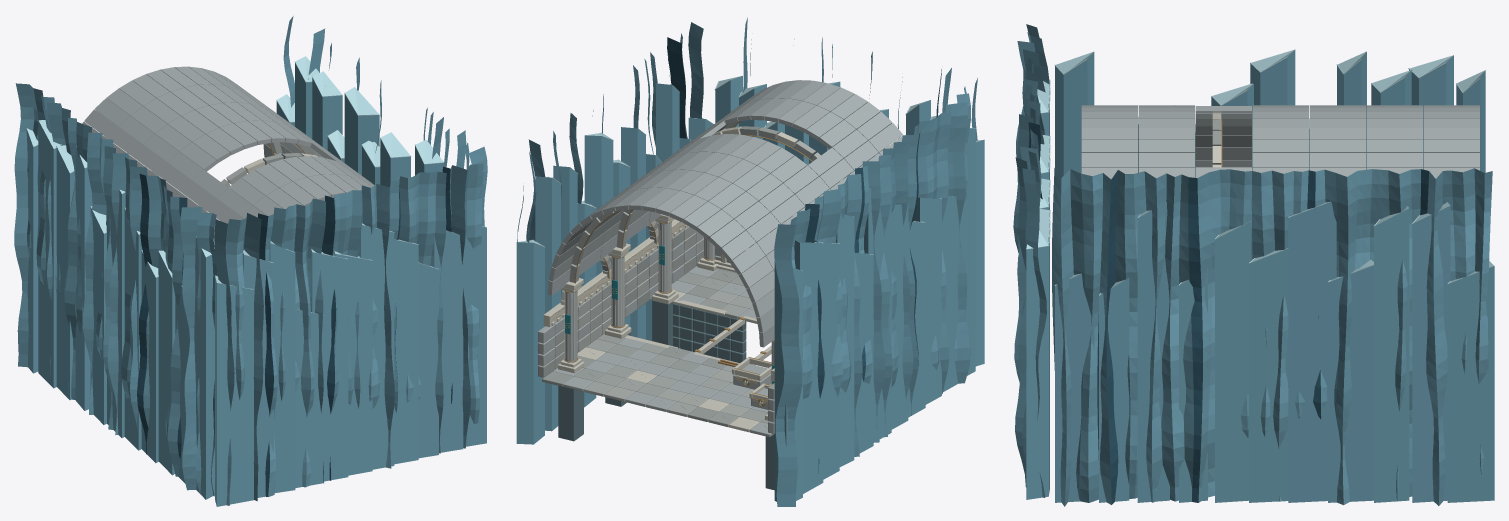
File: ice-hall-v07.glb
3 views of the same model, side by side, from view 1: azimuth 30°, elevation 25°; view 2: azimuth 150°, elevation 25°; view 3: azimuth 270°, elevation 25° (orthographic). The views are drawn at different scales.
Visible parts, largest first — view 1: Interior glacial strata 10, Interior limestone 0, Interior glacial depths 11, Interior frost crest 12; view 2: Interior glacial strata 10, Interior limestone 0, Interior carved edges 5, Interior recessed stone 9, Interior stone tone 3 2, Interior stone tone 2 6, Interior stone tone 1 1, Interior glacial depths 11, Interior stone tone 4 3, Interior stone tone 0 4, Interior aged bronze 7, Interior frost crest 12; view 3: Interior glacial strata 10, Interior limestone 0, Interior glacial depths 11, Interior frost crest 12.
Boxes of the visible parts, left/top/right/bottom form: Interior glacial strata 10: left=14, top=16, right=487, bottom=506; Interior limestone 0: left=82, top=66, right=374, bottom=238; Interior glacial depths 11: left=96, top=78, right=452, bottom=496; Interior frost crest 12: left=26, top=56, right=486, bottom=314; Interior glacial strata 10: left=516, top=17, right=984, bottom=506; Interior limestone 0: left=538, top=80, right=902, bottom=437; Interior carved edges 5: left=543, top=126, right=888, bottom=432; Interior recessed stone 9: left=558, top=273, right=774, bottom=490; Interior stone tone 3 2: left=577, top=128, right=815, bottom=422; Interior stone tone 2 6: left=554, top=121, right=804, bottom=421; Interior stone tone 1 1: left=538, top=127, right=779, bottom=427; Interior glacial depths 11: left=667, top=37, right=941, bottom=473; Interior stone tone 4 3: left=578, top=152, right=843, bottom=416; Interior stone tone 0 4: left=542, top=126, right=760, bottom=421; Interior aged bronze 7: left=549, top=121, right=880, bottom=406; Interior frost crest 12: left=518, top=76, right=982, bottom=270; Interior glacial strata 10: left=1013, top=24, right=1494, bottom=506; Interior limestone 0: left=1081, top=105, right=1479, bottom=179; Interior glacial depths 11: left=1028, top=122, right=1428, bottom=504; Interior frost crest 12: left=1026, top=49, right=1493, bottom=295.
Bounding box in the file's own units: 18.07 × 16.76 × 21.96.
